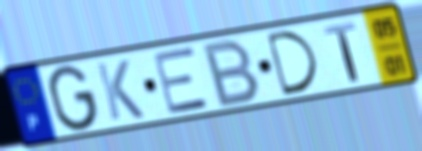B: (201, 35, 263, 110)
D: (263, 28, 321, 99)
E: (150, 44, 213, 117)
G: (46, 63, 101, 134)
K: (93, 57, 147, 123)
T: (321, 19, 362, 84)
